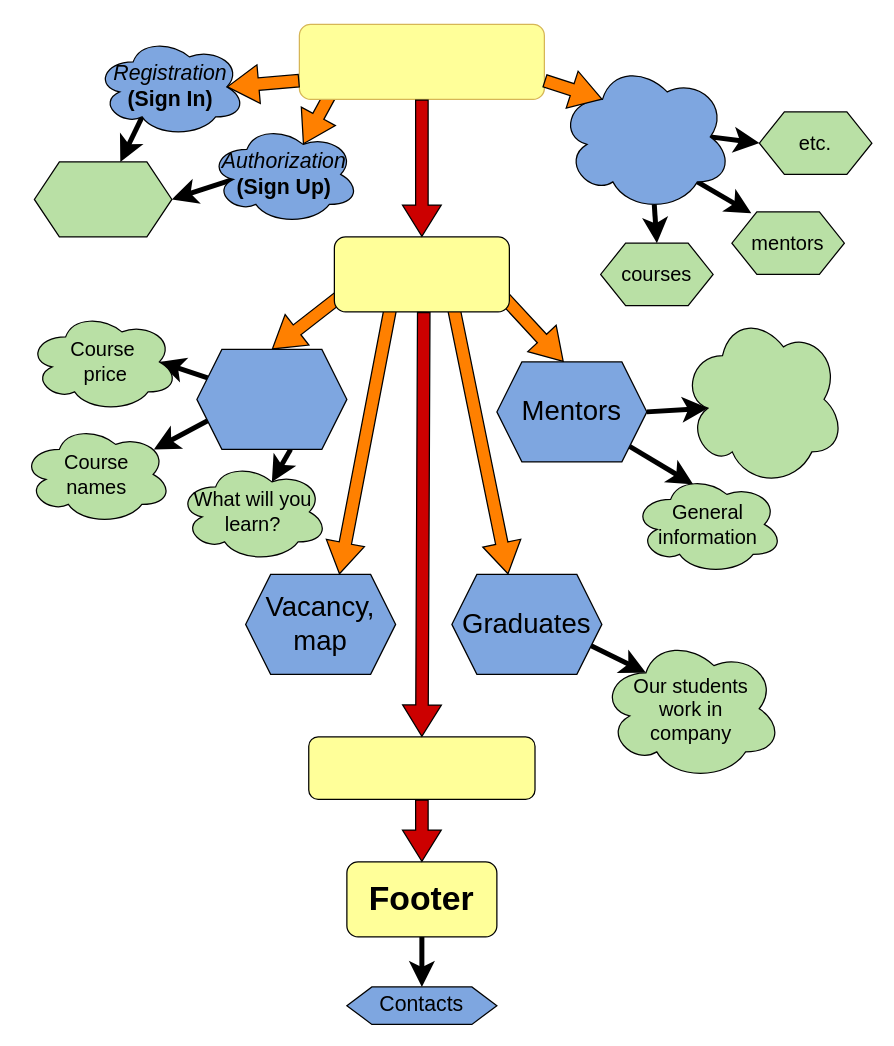
Image size: 894x1046. Some labels were removed from this diagram. Here are the shapes that lost their labels. From the top down, the centre of each, then its label:
the point at 421,61: Header (NDY corp.)
the point at 645,136: Search items based on names
the point at 102,199: New Users (students, mentors)
the point at 421,274: Main page
the point at 271,398: Course Programs
the point at 762,399: Link to social pages (insta, facebook, vk,etc.)
the point at 421,767: FAQ (reviews)
